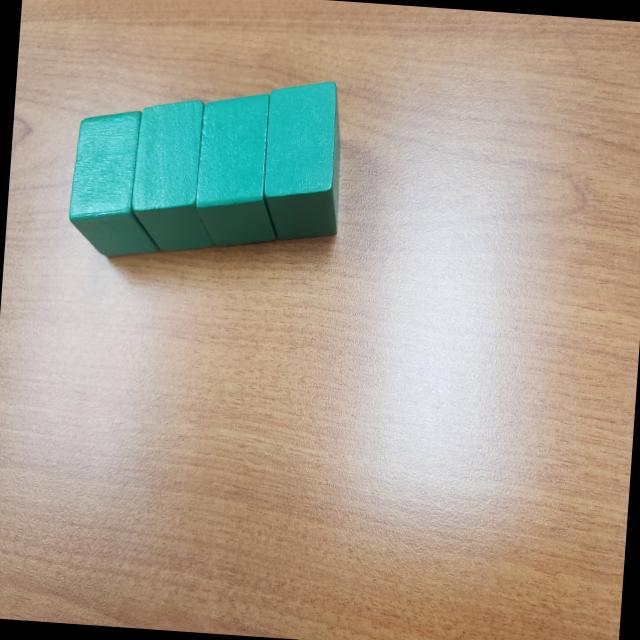green: (64, 105, 168, 261), (128, 96, 225, 257), (193, 87, 287, 250), (259, 76, 348, 245)
